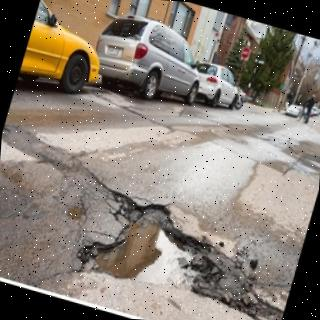pothole: (76, 188, 282, 320)
